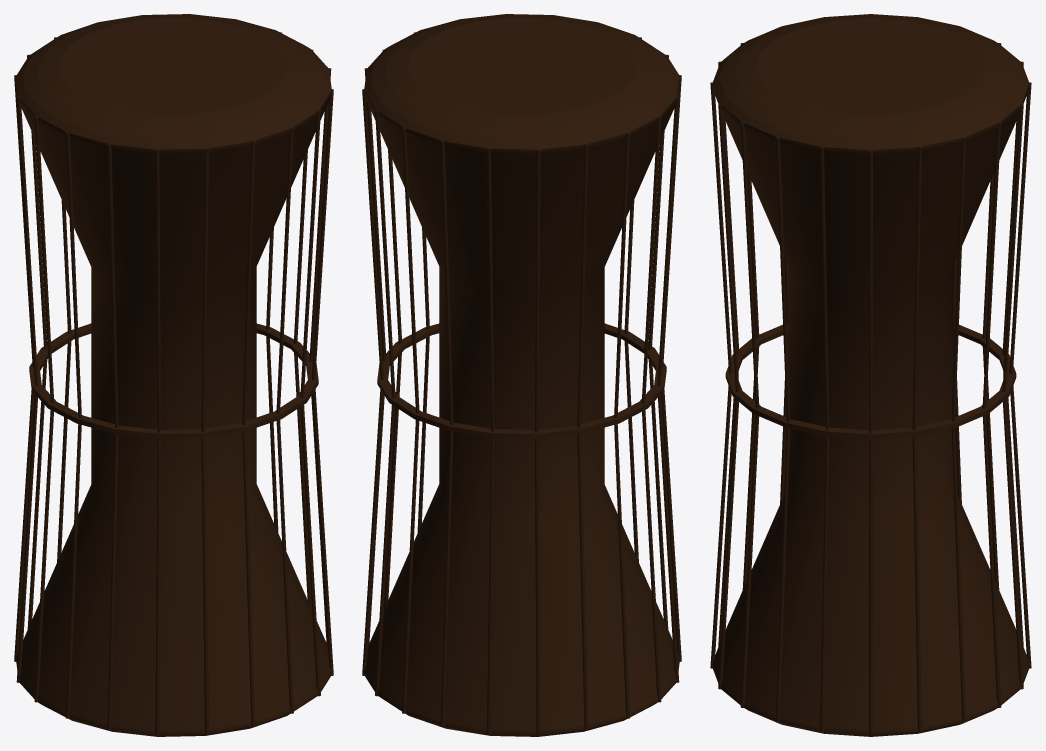
File: Drum.fbx
3 views of the same model, side by side, from view 1: azimuth 30°, elevation 25°; view 2: azimuth 150°, elevation 25°; view 3: azimuth 270°, elevation 25° (orthographic).
Visible parts, largest first — view 1: pPipe2; view 2: pPipe2; view 3: pPipe2.
Part boxes in pixels (<box>): pPipe2: <box>14,14,333,736</box>; pPipe2: <box>362,14,681,736</box>; pPipe2: <box>710,14,1031,736</box>.
Bounding box in the file's own units: 0.9997 × 2.12 × 0.9997.
